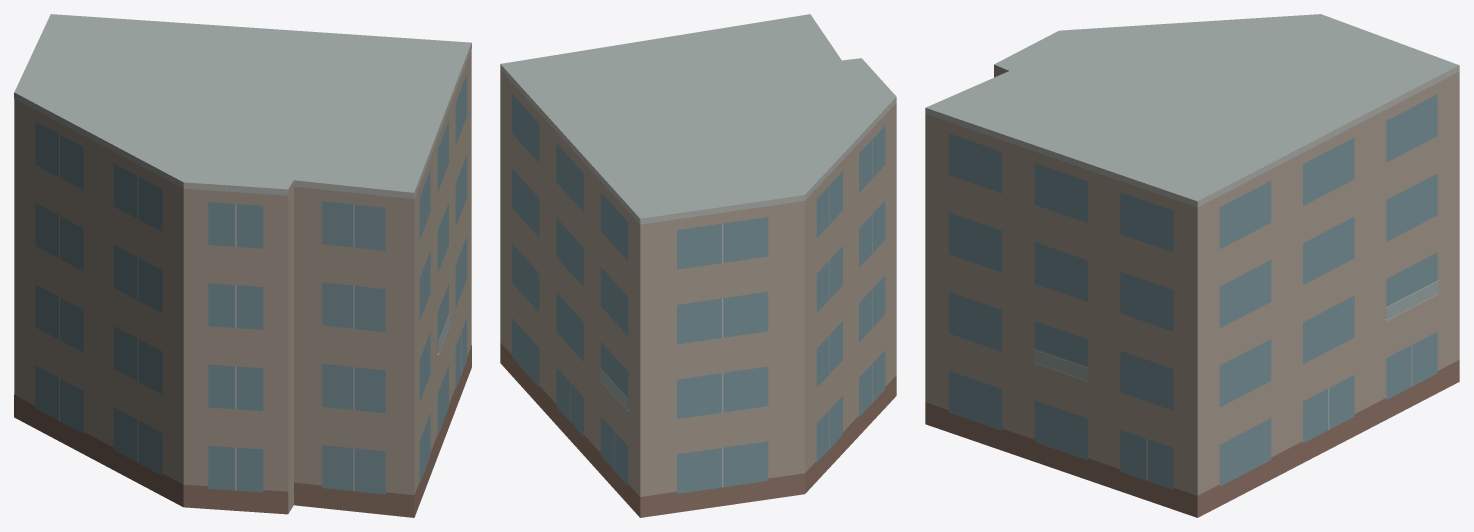
Rendered from survey-upis-32992802.glb.
The picture shows the model from 3 angles, left to right: view 1: azimuth 30°, elevation 25°; view 2: azimuth 150°, elevation 25°; view 3: azimuth 270°, elevation 25°; orthographic projection. The views are drawn at different scales.
Parts seen in each view (by area): view 1: survey-upis-32992802.tmp; view 2: survey-upis-32992802.tmp; view 3: survey-upis-32992802.tmp.
Part boxes in pixels (bbox=[...]): survey-upis-32992802.tmp: bbox=[14, 14, 471, 517]; survey-upis-32992802.tmp: bbox=[500, 14, 896, 517]; survey-upis-32992802.tmp: bbox=[925, 14, 1459, 517].
Bounding box in the file's own units: 15.88 × 12.5 × 19.13.
